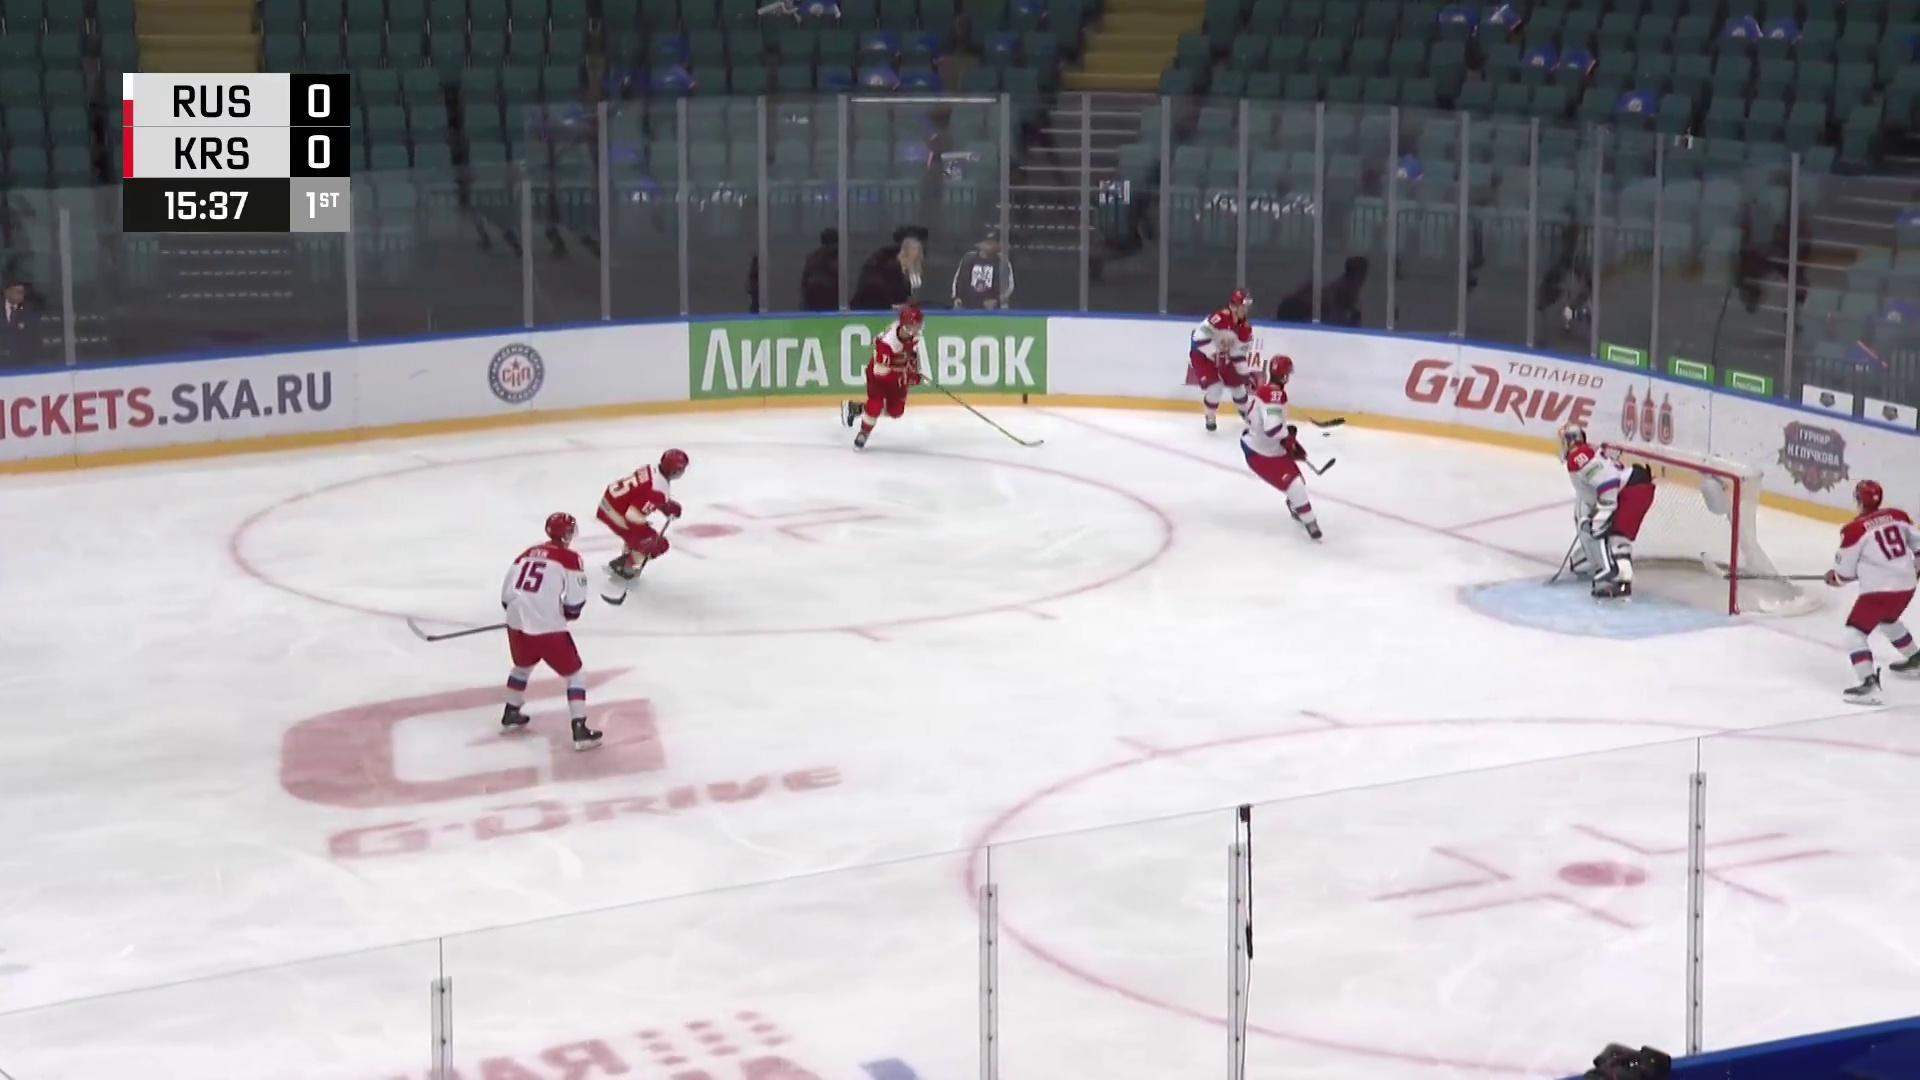ball: (1321, 430, 1332, 439)
